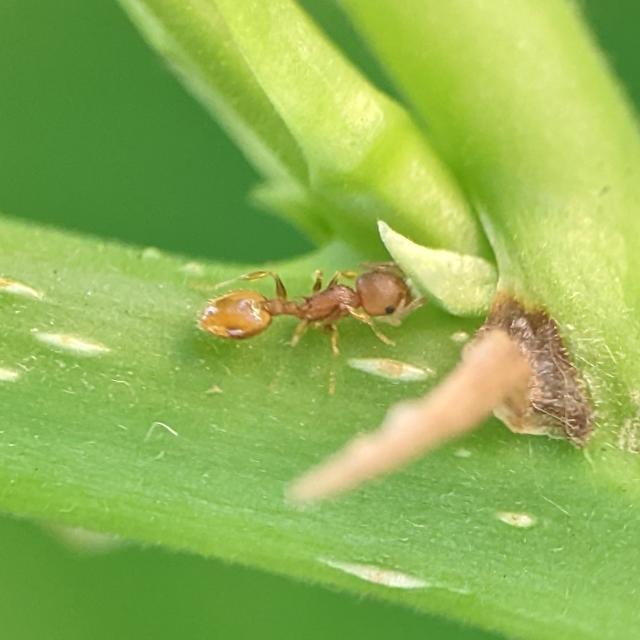Temnothorax: (184, 224, 443, 376)
